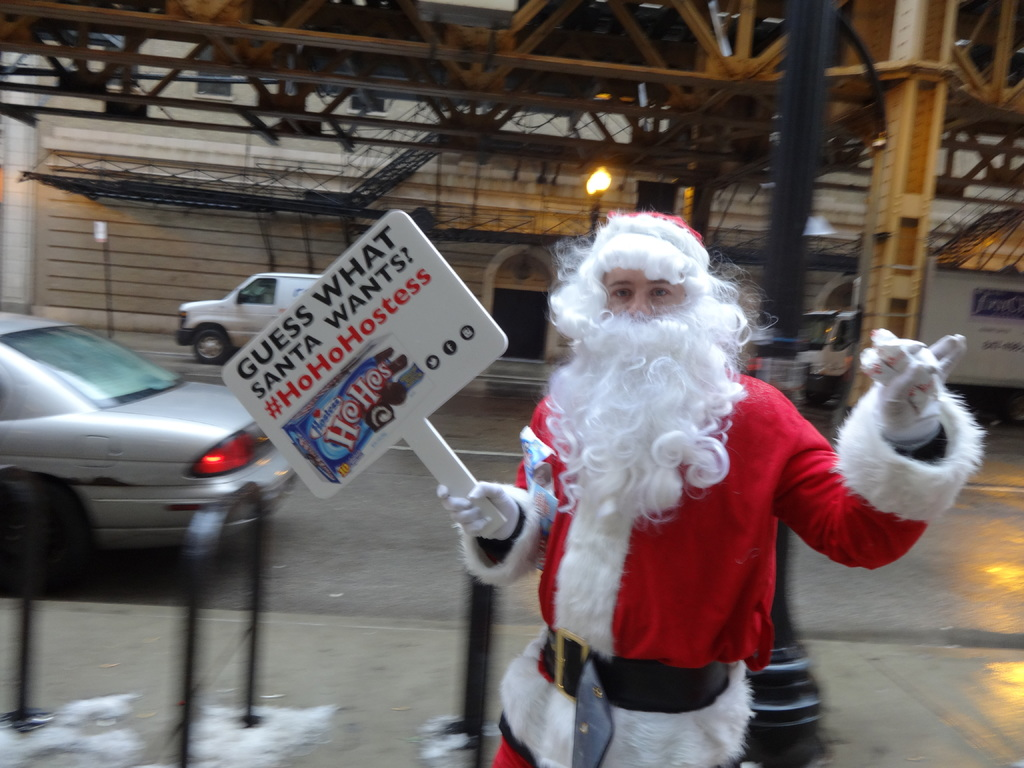Car: (0, 311, 289, 595), (176, 266, 339, 370)
